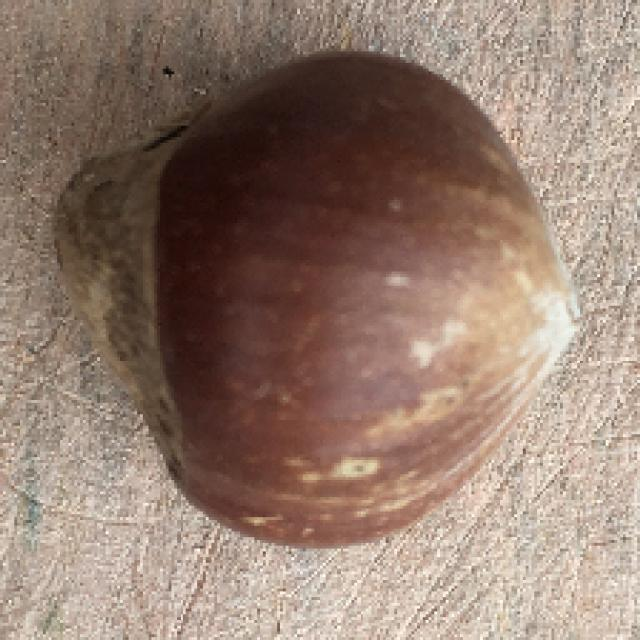qualityHazelnut: (46, 56, 586, 548)
